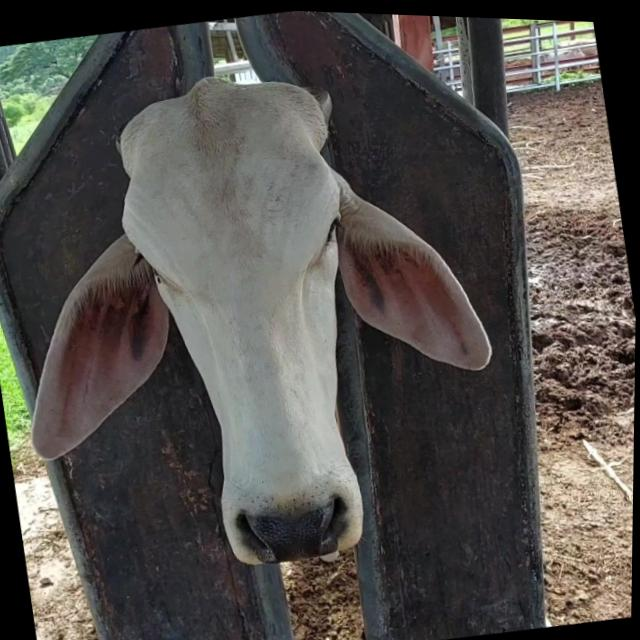cowFace: (107, 63, 399, 580)
